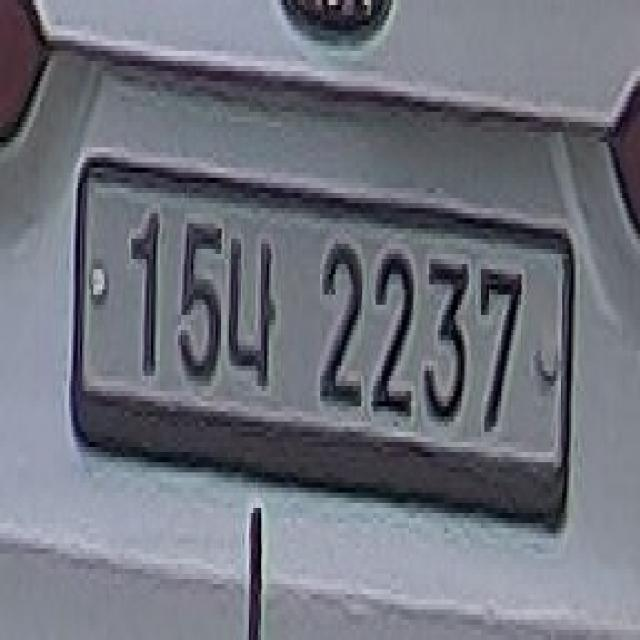1: (122, 193, 169, 391)
2: (313, 224, 367, 426), (369, 228, 418, 432)
3: (420, 228, 476, 437)
5: (176, 214, 224, 402)
7: (476, 234, 526, 452)
license_plate: (62, 137, 576, 539)
na: (224, 208, 278, 417)
